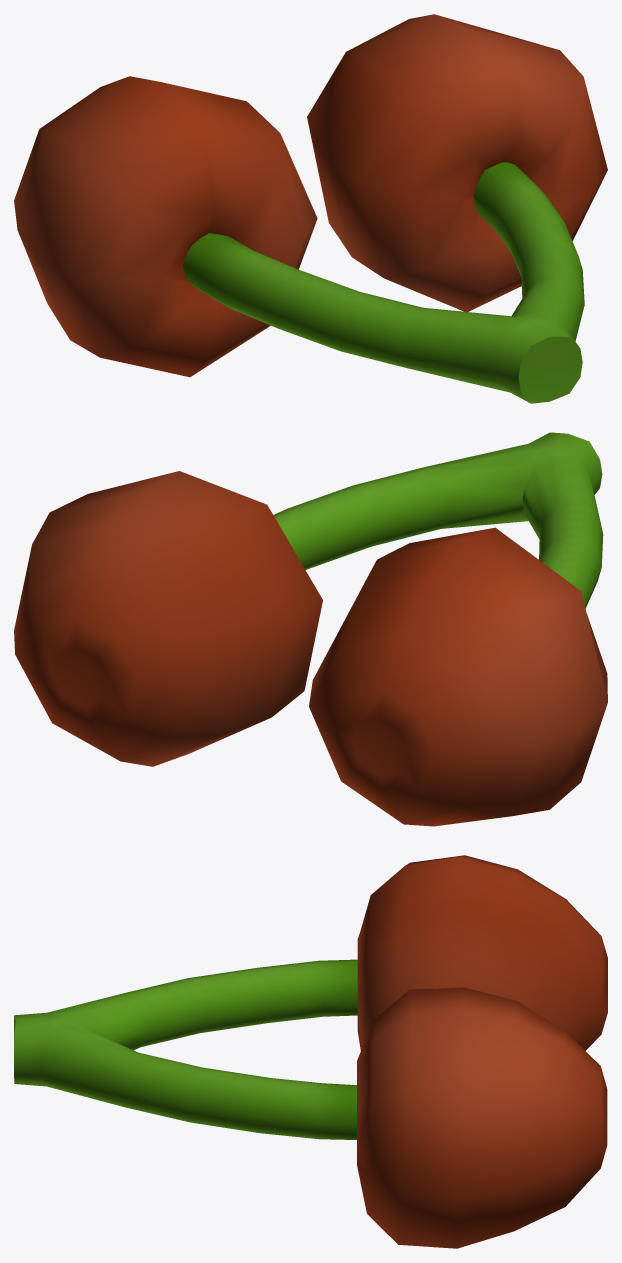
File: cherry.glb
3 renders of one model, top to bottom at view 1: azimuth 30°, elevation 25°; view 2: azimuth 150°, elevation 25°; view 3: azimuth 270°, elevation 25°, orthographic. The views are drawn at different scales.
Parts seen in each view (by area): view 1: geometry_0; view 2: geometry_0; view 3: geometry_0.
Part boxes in pixels (x1=…): geometry_0: x1=14, y1=14, x2=607, y2=403; geometry_0: x1=14, y1=432, x2=607, y2=826; geometry_0: x1=14, y1=855, x2=607, y2=1248.
Size of the model in its own units: 0.3885 by 0.1884 by 0.407.
Materials: 1 (1 with a texture image).
